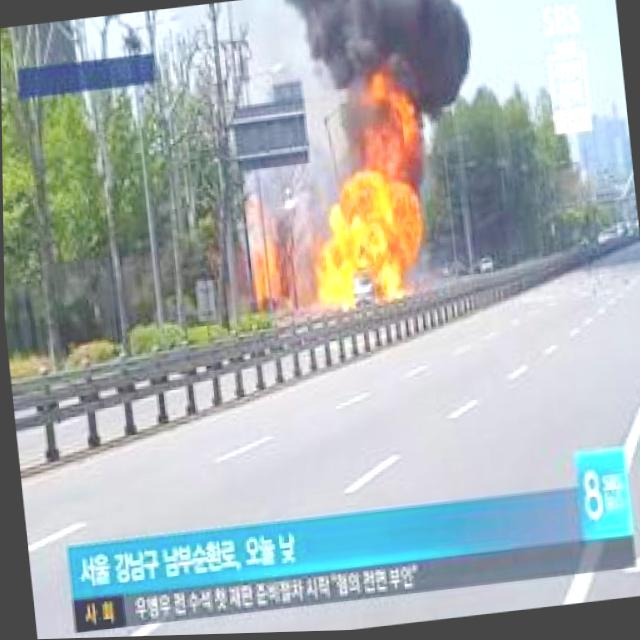Fire: (340, 173, 406, 298), (314, 229, 350, 309), (248, 250, 276, 308)
